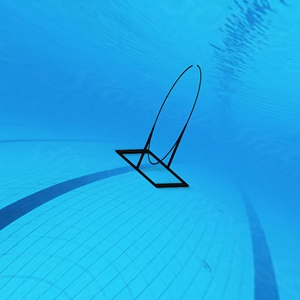circle: (113, 62, 204, 190)
